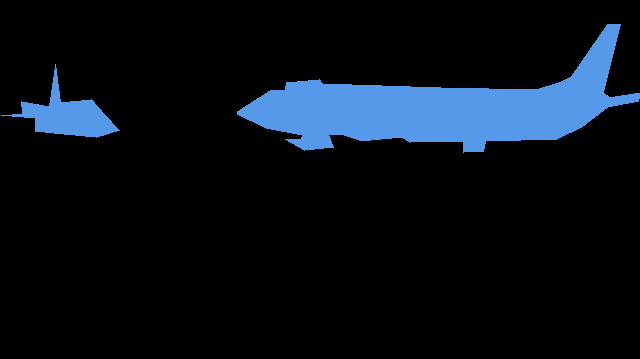Airplane: (237, 24, 640, 152), (1, 64, 119, 137)
